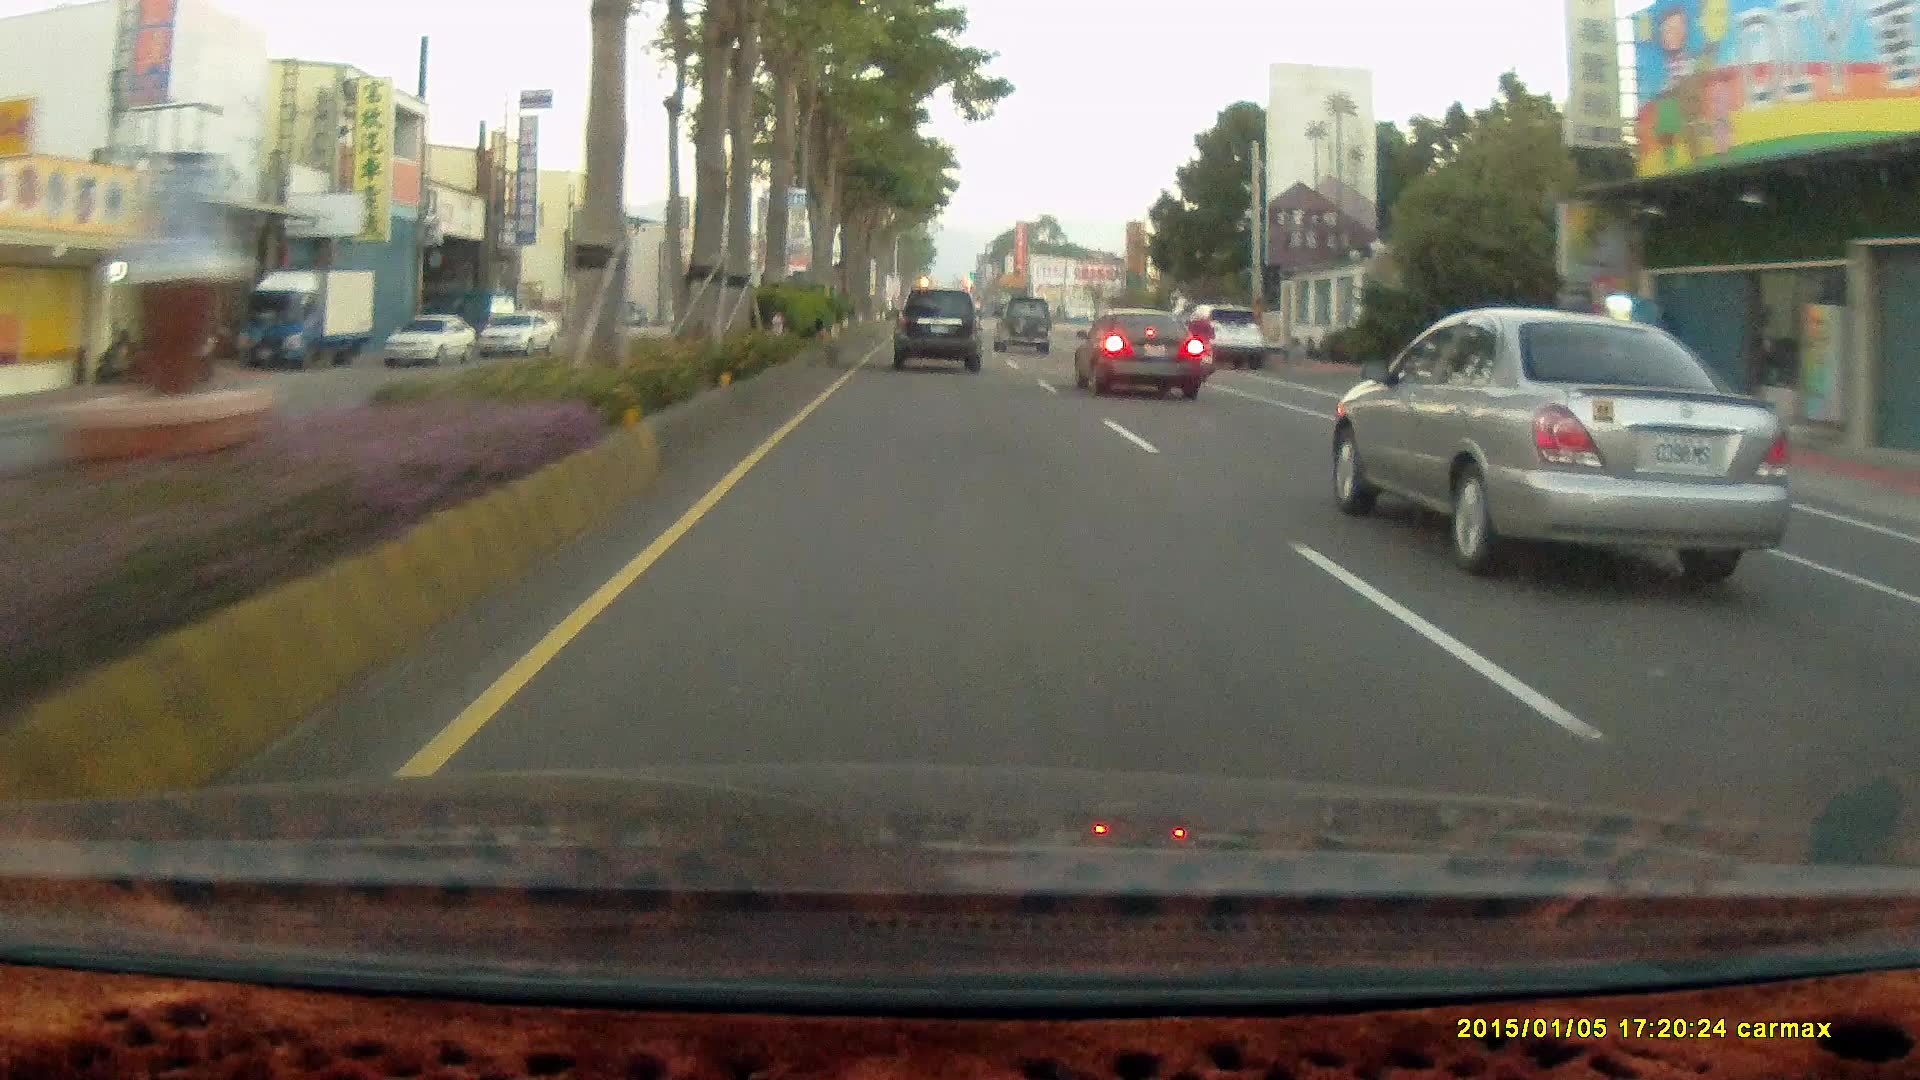rider: (1180, 300, 1221, 376)
vehicle: (1325, 298, 1796, 593), (233, 268, 380, 371), (234, 265, 376, 367), (1071, 304, 1208, 402), (1072, 305, 1205, 398), (889, 281, 988, 376), (890, 288, 979, 372), (386, 309, 479, 368), (1183, 302, 1264, 367), (385, 309, 476, 367), (1187, 303, 1265, 370), (480, 309, 559, 357), (992, 294, 1054, 356), (992, 295, 1051, 353)
